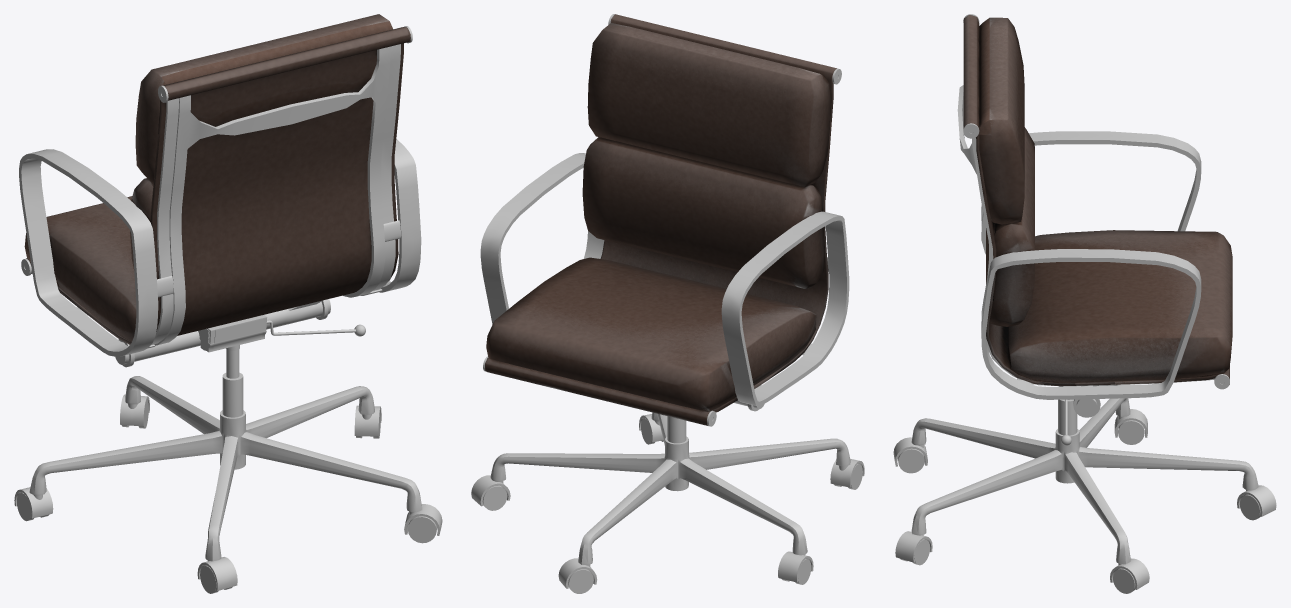
File: RotatingChair.fbx
3 views of the same model, side by side, from view 1: azimuth 30°, elevation 25°; view 2: azimuth 150°, elevation 25°; view 3: azimuth 270°, elevation 25° (orthographic). The views are drawn at different scales.
Parts seen in each view (by area): view 1: Leather, UpperChrome, BaseChrome, LowerPlastic, UpperPlastic; view 2: Leather, UpperChrome, BaseChrome, LowerPlastic; view 3: Leather, UpperChrome, BaseChrome, LowerPlastic.
Boxes of the visible parts, x1,y1,x2,y2 form: Leather: (24,14,410,344); UpperChrome: (19,26,421,367); BaseChrome: (29,345,422,561); LowerPlastic: (14,394,442,593); UpperPlastic: (198,315,267,352); Leather: (485,14,836,425); UpperChrome: (480,14,849,426); BaseChrome: (490,412,850,564); LowerPlastic: (471,414,864,593); Leather: (963,15,1232,385); UpperChrome: (957,14,1229,445); BaseChrome: (911,398,1258,564); LowerPlastic: (893,409,1276,593).
Bounding box in the file's own units: 80.3 × 103 × 80.35.
